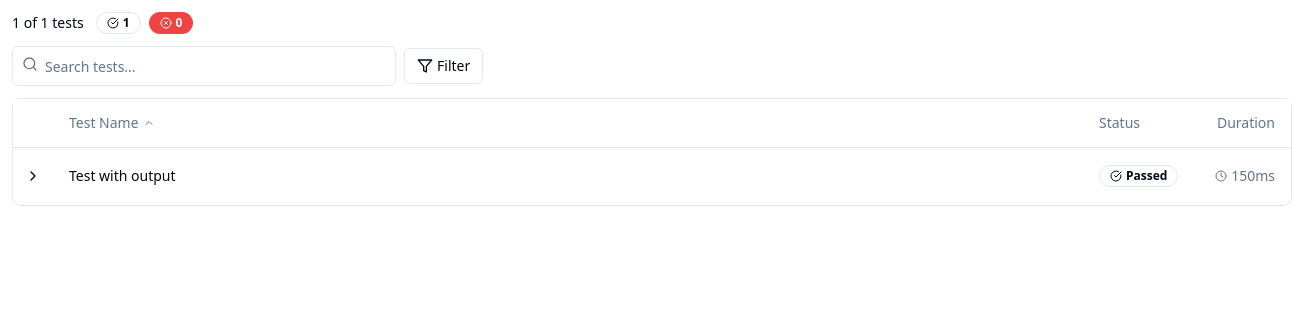
TestResultsTable › Expanded Row Content › shows stdout tab when stdout is available
Click the text "Test with output".
click(122, 176)  # box [13, 147, 1291, 204]
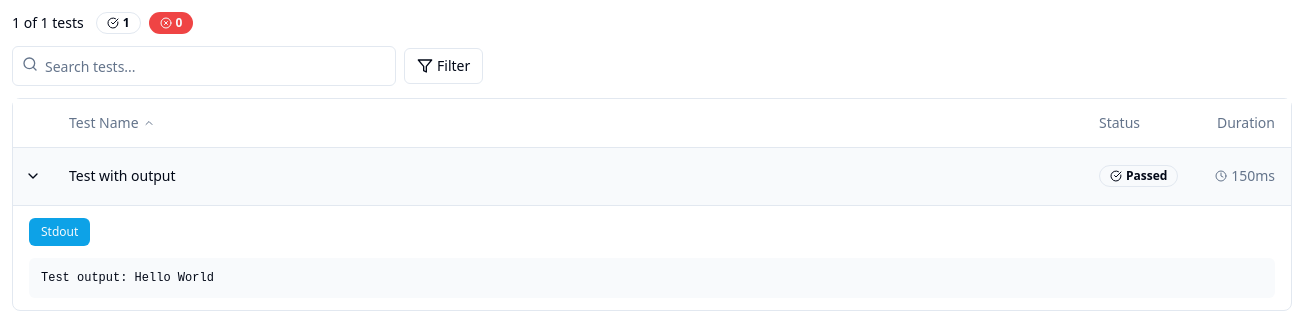
Check: the button "Stdout" is shown, box [29, 218, 90, 246]
Check: the text "Test output: Hello World" is shown, box [41, 270, 214, 284]
